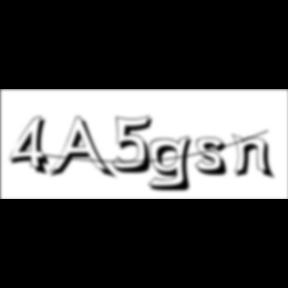4: (9, 115, 56, 179)
5: (112, 114, 158, 176)
A: (50, 116, 119, 182)
g: (148, 134, 200, 194)
n: (232, 132, 278, 181)
s: (196, 137, 234, 179)
